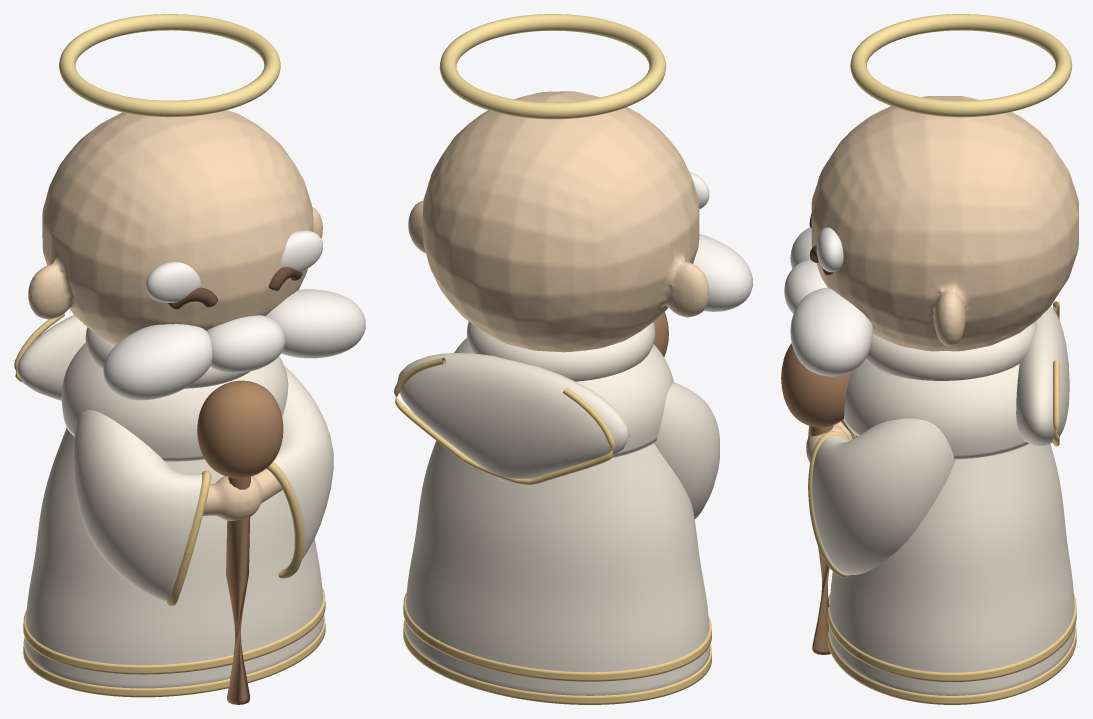
The model's file is god.glb.
3 views of the same model, side by side, from view 1: azimuth 30°, elevation 25°; view 2: azimuth 150°, elevation 25°; view 3: azimuth 270°, elevation 25° (orthographic). The views are drawn at different scales.
Visible parts, largest first — view 1: body, robe, sleeve_r, cape, halo, staff_top, mus_r, sleeve_l, mus_l, mus_c, hood, staff (+7 smaller); view 2: robe, body, hood, halo, sleeve_r, cape, collar, hem_band_34, hem_band_12, mus_r, hood_trim; view 3: body, robe, sleeve_l, cape, halo, mus_l, hood, collar, staff_top, hem_band_34, hem_band_12, mus_c (+5 smaller).
Part boxes in pixels (<box>): body: <box>28,110,322,520</box>; robe: <box>25,428,323,688</box>; sleeve_r: <box>73,410,202,601</box>; cape: <box>61,343,288,461</box>; halo: <box>59,14,280,117</box>; staff_top: <box>197,380,283,478</box>; mus_r: <box>103,324,212,400</box>; sleeve_l: <box>273,365,333,569</box>; mus_l: <box>266,289,365,358</box>; mus_c: <box>207,315,285,373</box>; hood: <box>16,315,87,400</box>; staff: <box>226,476,250,704</box>; robe: <box>405,440,710,695</box>; body: <box>408,91,709,352</box>; hood: <box>397,353,629,483</box>; halo: <box>439,14,665,119</box>; sleeve_r: <box>654,382,719,519</box>; cape: <box>454,337,673,457</box>; collar: <box>467,321,655,381</box>; hem_band_34: <box>403,593,711,681</box>; hem_band_12: <box>403,620,711,704</box>; mus_r: <box>693,234,752,311</box>; hood_trim: <box>394,357,614,484</box>; body: <box>806,96,1078,462</box>; robe: <box>829,435,1075,695</box>; sleeve_l: <box>811,418,955,575</box>; cape: <box>844,360,1028,459</box>; halo: <box>850,14,1072,117</box>; mus_l: <box>790,287,873,376</box>; hood: <box>1016,306,1069,446</box>; collar: <box>865,321,1036,380</box>; staff_top: <box>781,343,850,427</box>; hem_band_34: <box>827,593,1076,681</box>; hem_band_12: <box>827,623,1076,704</box>; mus_c: <box>784,259,827,313</box>.
Size of the model in its own units: 2.94 by 5.7 by 2.6.
